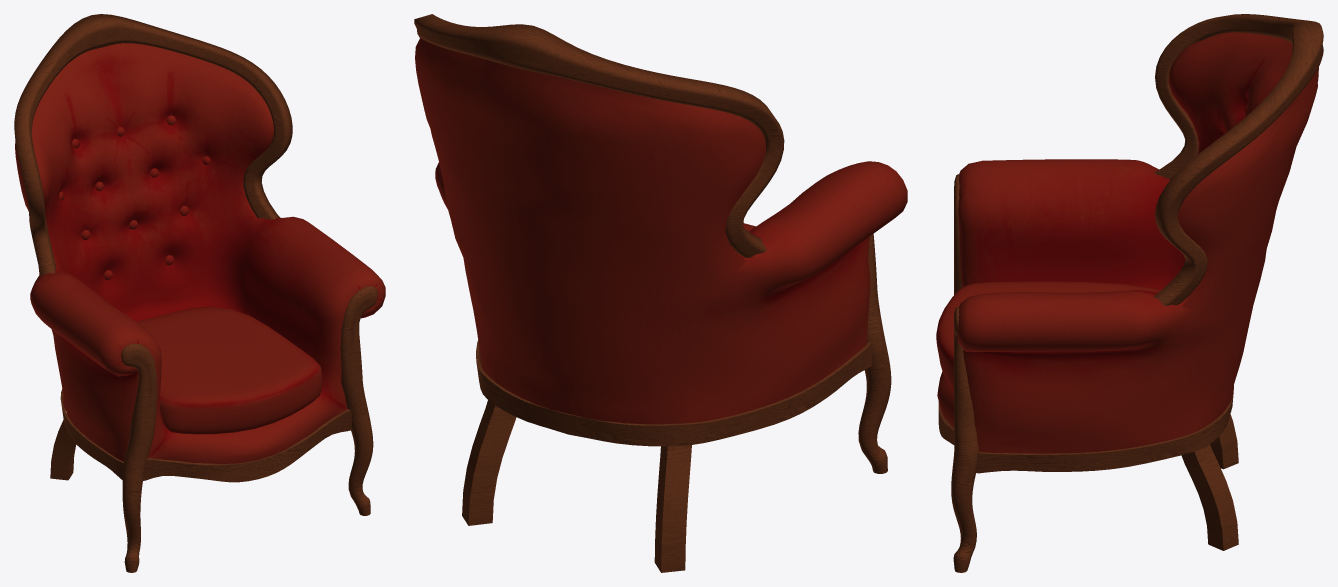
Rendered from roter sessel frei.fbx.
3 views of the same model, side by side, from view 1: azimuth 30°, elevation 25°; view 2: azimuth 150°, elevation 25°; view 3: azimuth 270°, elevation 25° (orthographic). The views are drawn at different scales.
Visible parts, largest first — view 1: sessel, Holz, Kissen; view 2: sessel, Holz; view 3: sessel, Holz, Kissen.
Part boxes in pixels (x1,y1,x2,y2): sessel: (15, 43, 385, 463); Holz: (14, 14, 377, 572); Kissen: (136, 306, 322, 434); sessel: (415, 38, 907, 424); Holz: (414, 14, 891, 572); sessel: (937, 32, 1318, 453); Holz: (938, 14, 1323, 572); Kissen: (936, 281, 1160, 390).
Bounding box in the file's own units: 136 × 189 × 140.
